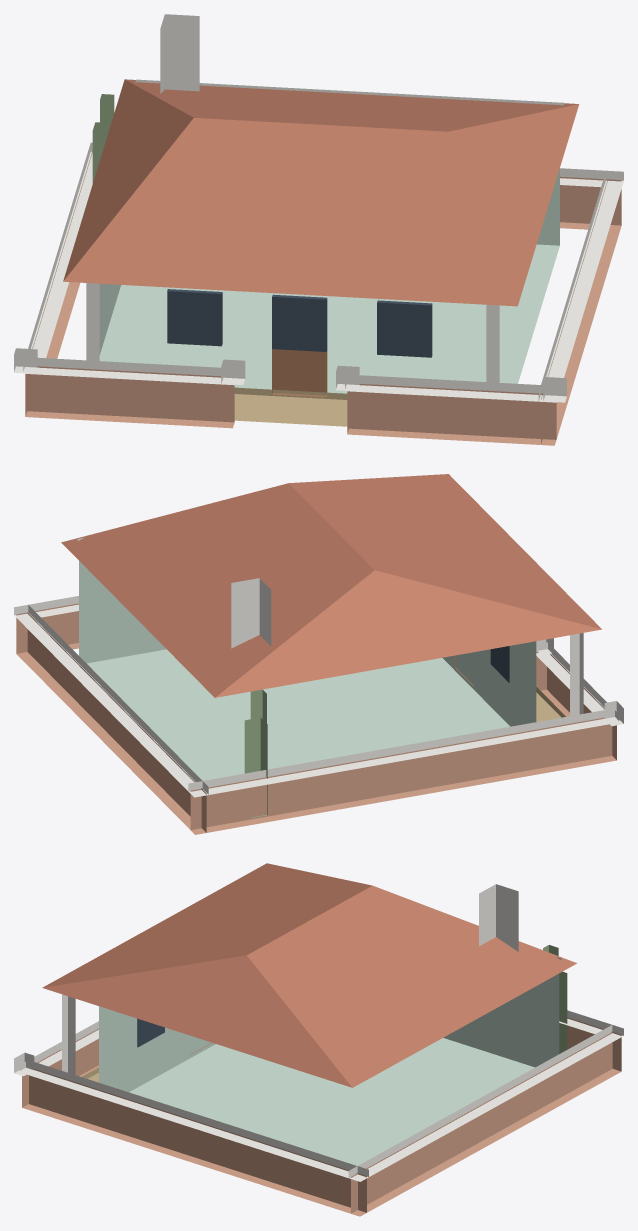
Rendered from cunucu_scruz_hip_b.glb.
3 renders of one model, top to bottom at view 1: azimuth 30°, elevation 25°; view 2: azimuth 150°, elevation 25°; view 3: azimuth 270°, elevation 25°, orthographic. The views are drawn at different scales.
Visible parts, largest first — view 1: cunucu_scruz_hip_b_lod0; view 2: cunucu_scruz_hip_b_lod0; view 3: cunucu_scruz_hip_b_lod0.
Part boxes in pixels (x1=…): cunucu_scruz_hip_b_lod0: x1=14, y1=14, x2=623, y2=445; cunucu_scruz_hip_b_lod0: x1=14, y1=474, x2=623, y2=834; cunucu_scruz_hip_b_lod0: x1=14, y1=863, x2=623, y2=1216.
Size of what is drawn, in the model's own units: 15.1 by 5 by 15.04.
